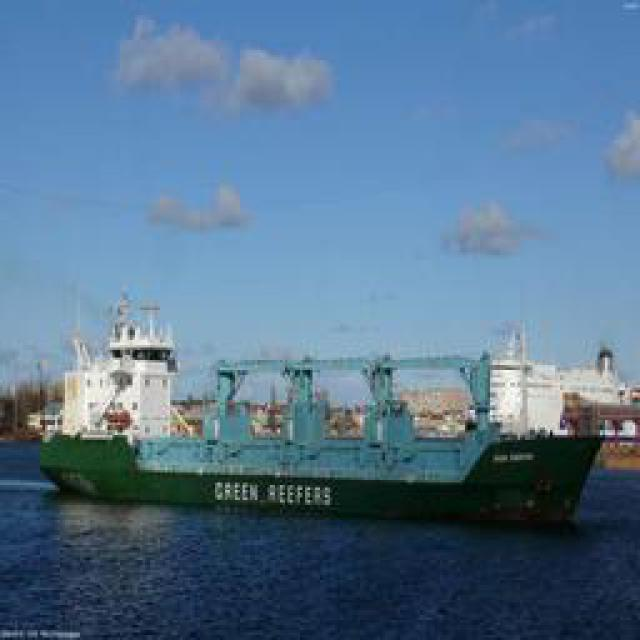Ship: (35, 312, 618, 525)
